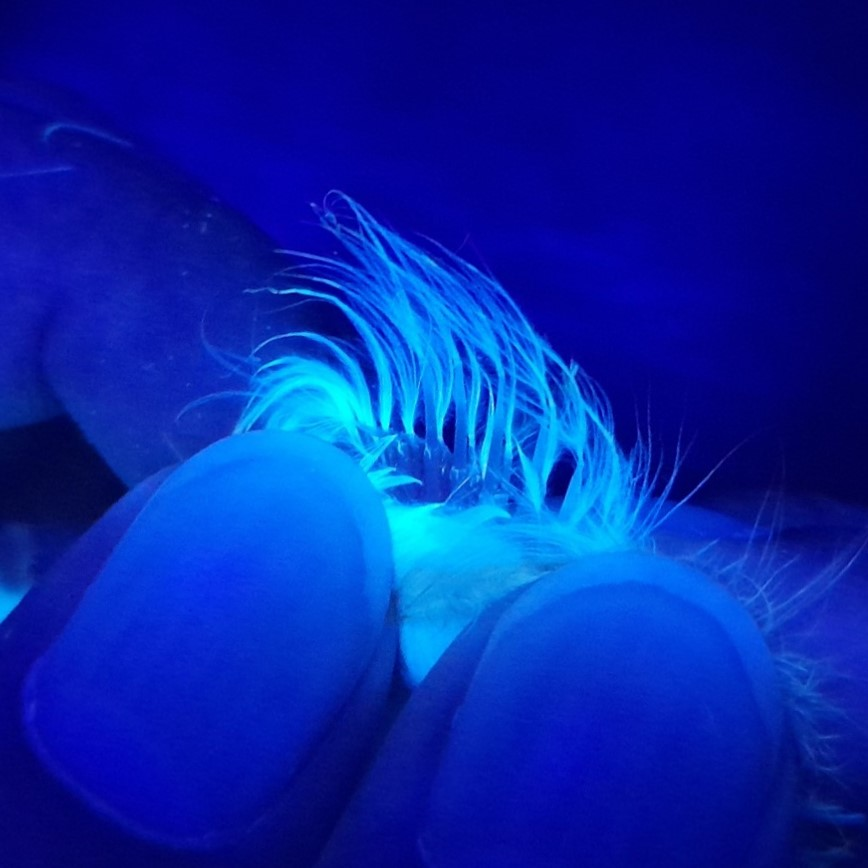male: (358, 302, 608, 541)
